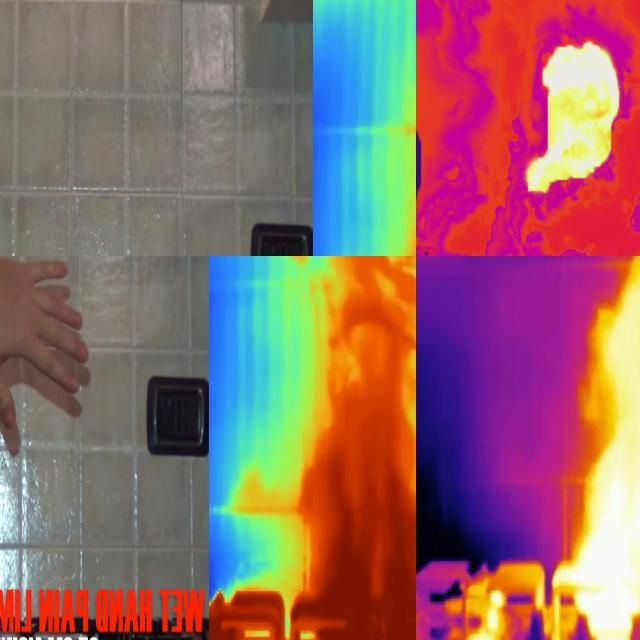fire: (518, 31, 622, 212), (573, 457, 640, 640), (328, 499, 410, 640)
